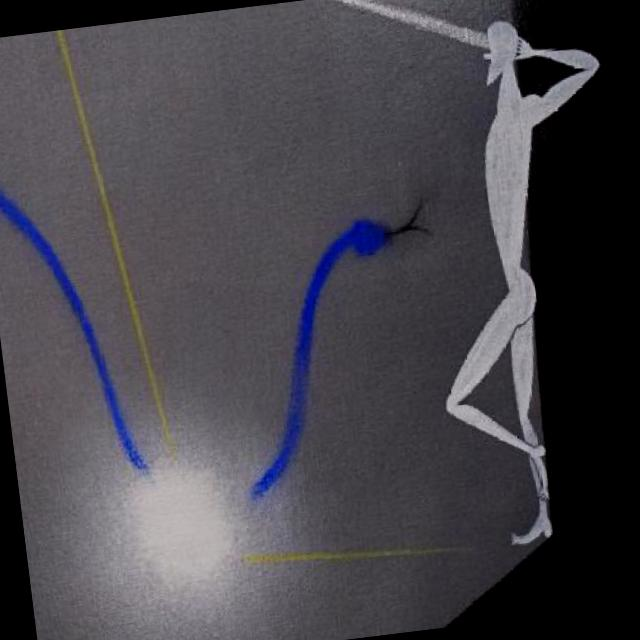Person: (398, 5, 640, 551)
